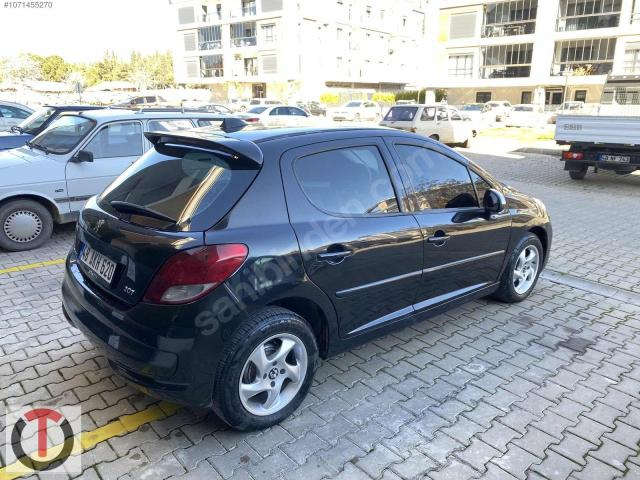plaka: (80, 248, 116, 283)
